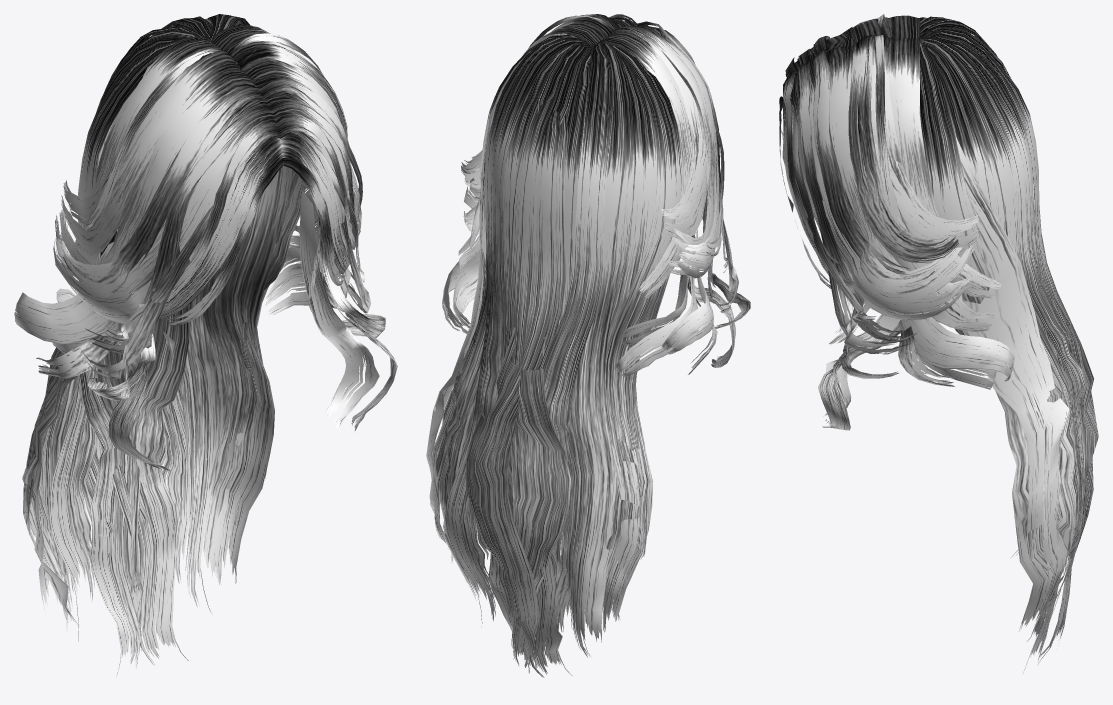
File: hair_babe80_f_medium.glb
The picture shows the model from 3 angles, left to right: view 1: azimuth 30°, elevation 25°; view 2: azimuth 150°, elevation 25°; view 3: azimuth 270°, elevation 25°; orthographic projection. The views are drawn at different scales.
Visible parts, largest first — view 1: haircards; view 2: haircards; view 3: haircards.
Boxes of the visible parts, bbox=[...] form: haircards: bbox=[14, 14, 397, 676]; haircards: bbox=[426, 14, 750, 677]; haircards: bbox=[779, 14, 1098, 672].
Size of the model in its own units: 0.2726 by 0.5967 by 0.266.
Materials: 1 (1 with a texture image).
